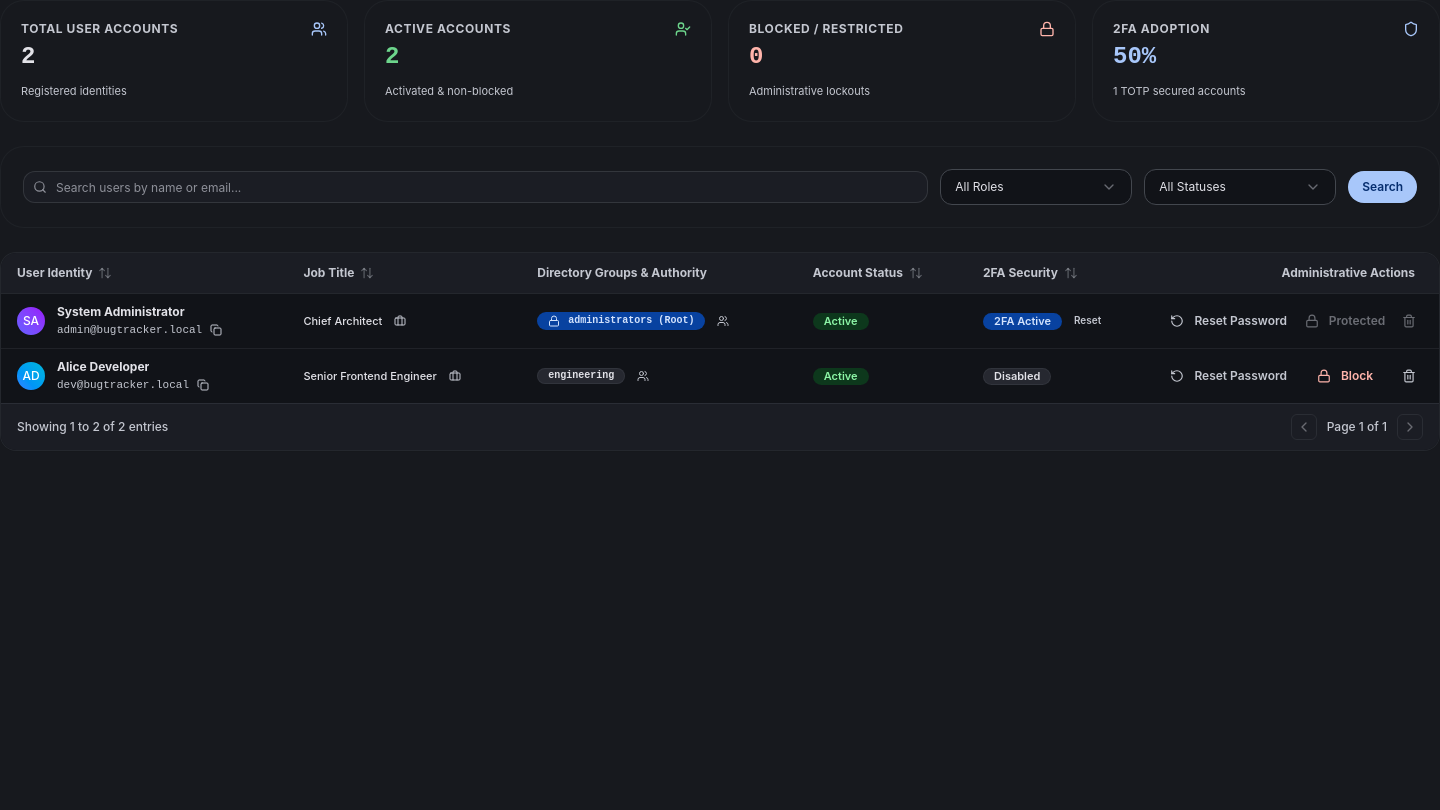
Test: AdminUsersTab Component › opens directory group assignment modal when clicking manage groups button
Click the button titled "Manage directory groups" next to "engineering" at (643, 376), box [631,364,655,388]
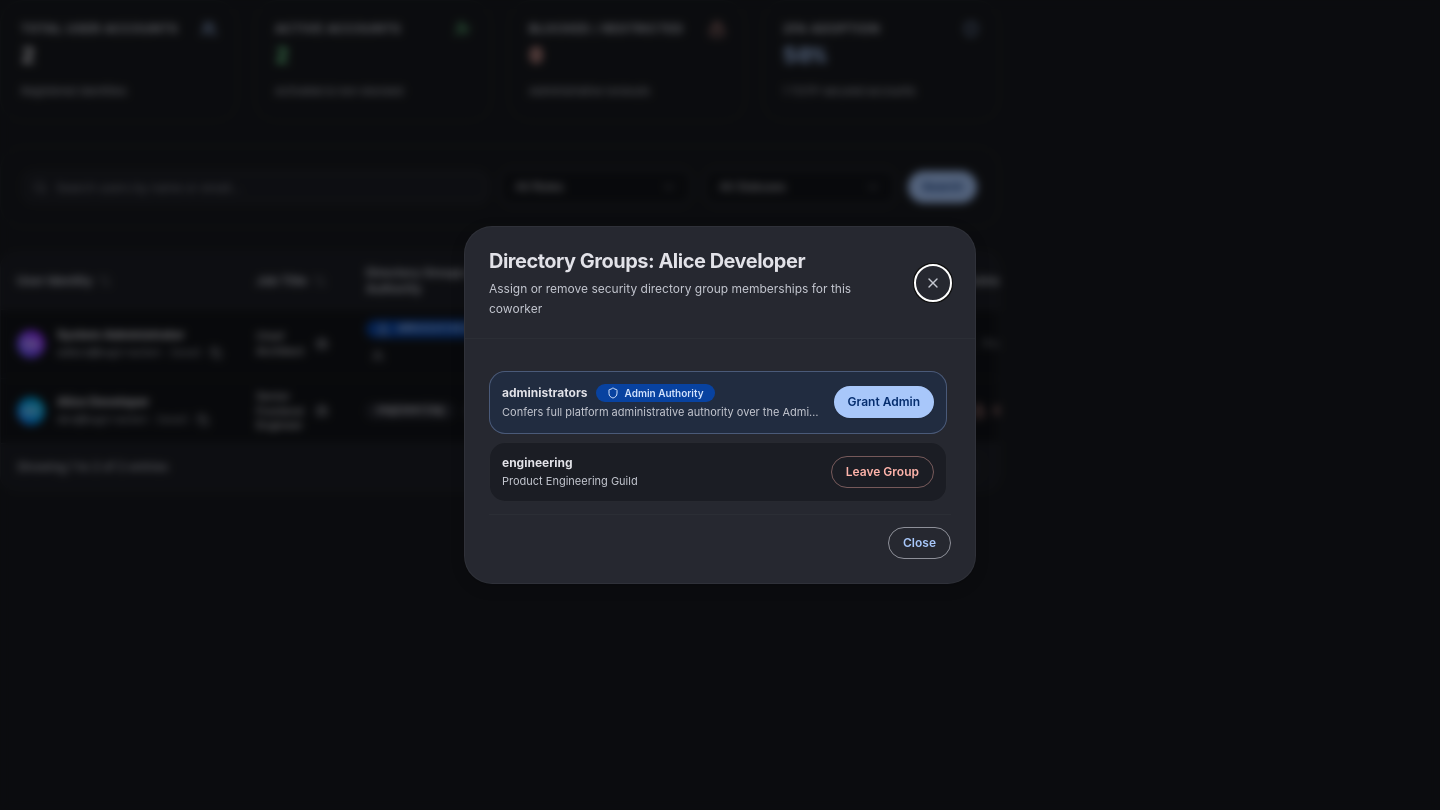
expect the text "Directory Groups: Alice Developer" is shown: met, box [489,249,805,273]
